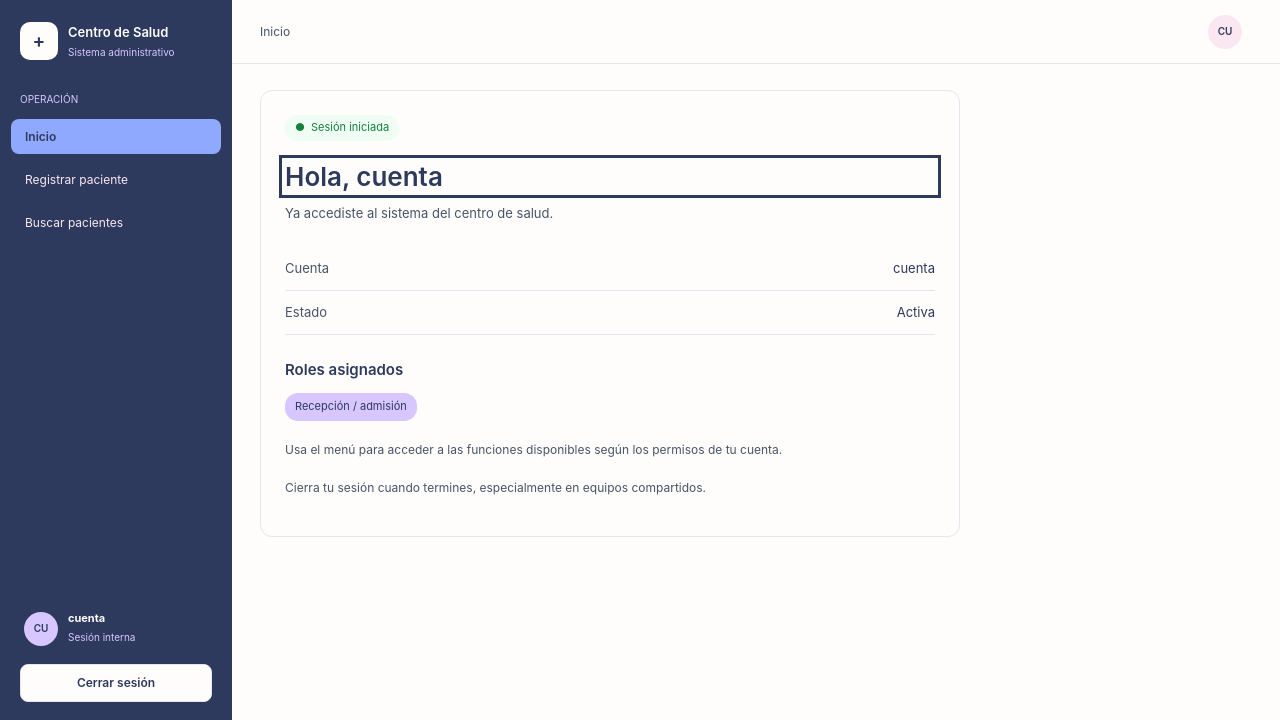
Test case: Edición y búsqueda de pacientes › solo ofrece la búsqueda a cuentas con permiso
The width and height of the screenshot is (1280, 720).
Click the button "Buscar pacientes" at (116, 223), box [11, 205, 221, 241]
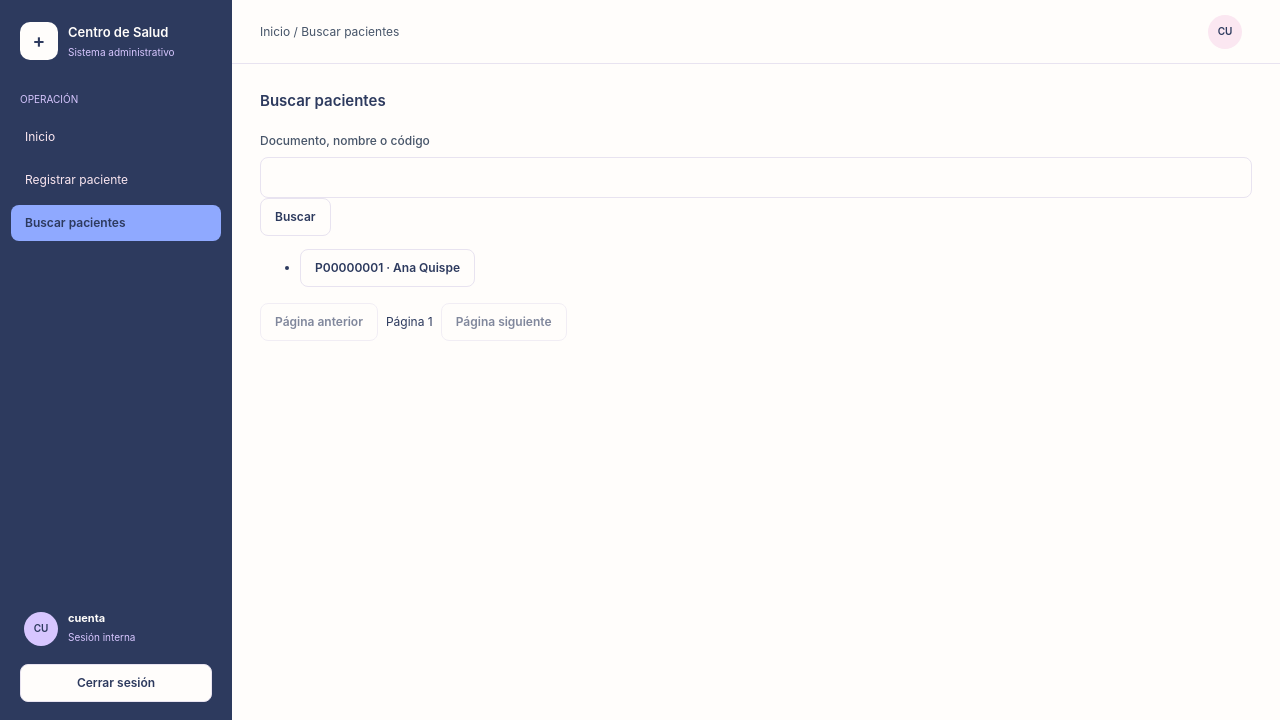
Now the field labelled "Documento, nombre o código" is shown, box [260, 157, 1252, 198]
